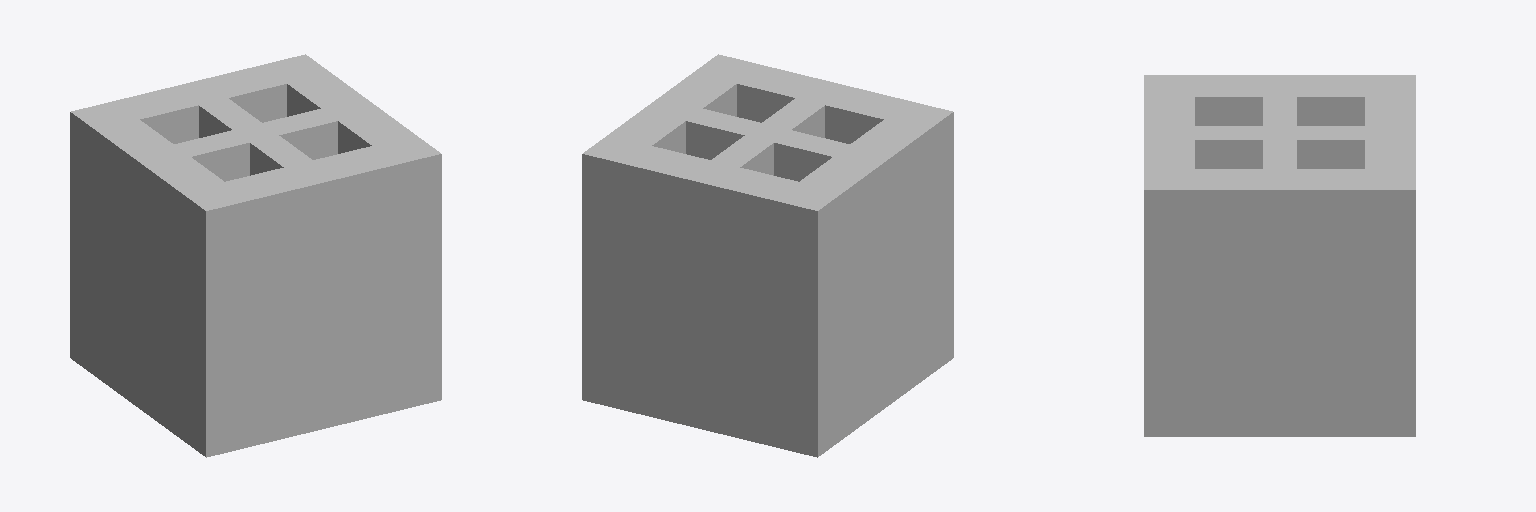
File: channelAssembly.obj
3 views of the same model, side by side, from view 1: azimuth 30°, elevation 25°; view 2: azimuth 150°, elevation 25°; view 3: azimuth 270°, elevation 25° (orthographic).
Visible parts, largest first — view 1: cube; view 2: cube; view 3: cube.
Part boxes in pixels (x1,y1,x2,y2): cube: (70,54,441,457); cube: (582,54,953,457); cube: (1144,75,1415,436).
Bounding box in the file's own units: 1 × 1 × 1.